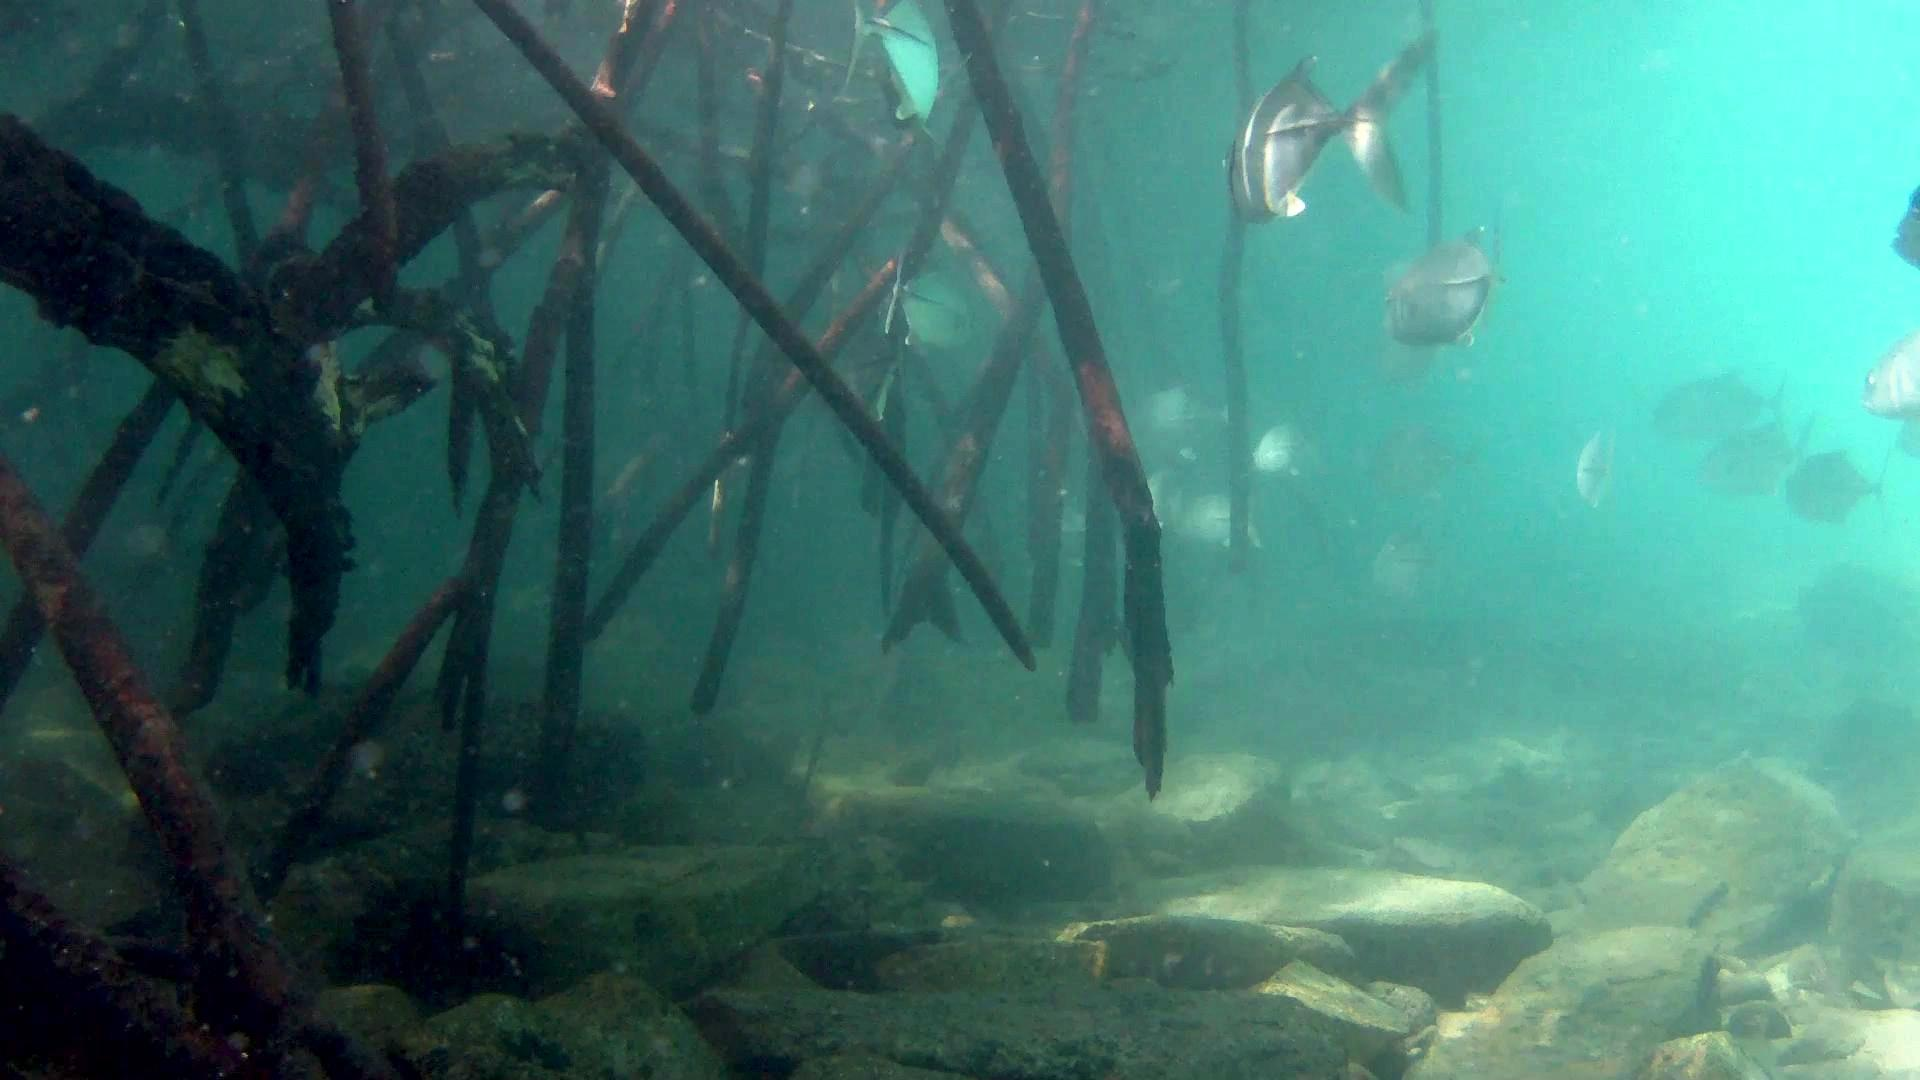caranx: (1218, 20, 1447, 223), (811, 3, 968, 140)
